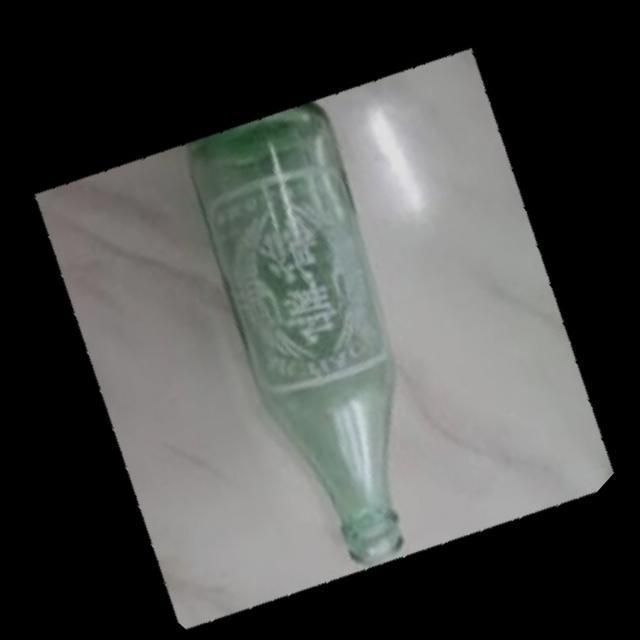Glass: (186, 101, 406, 566)
